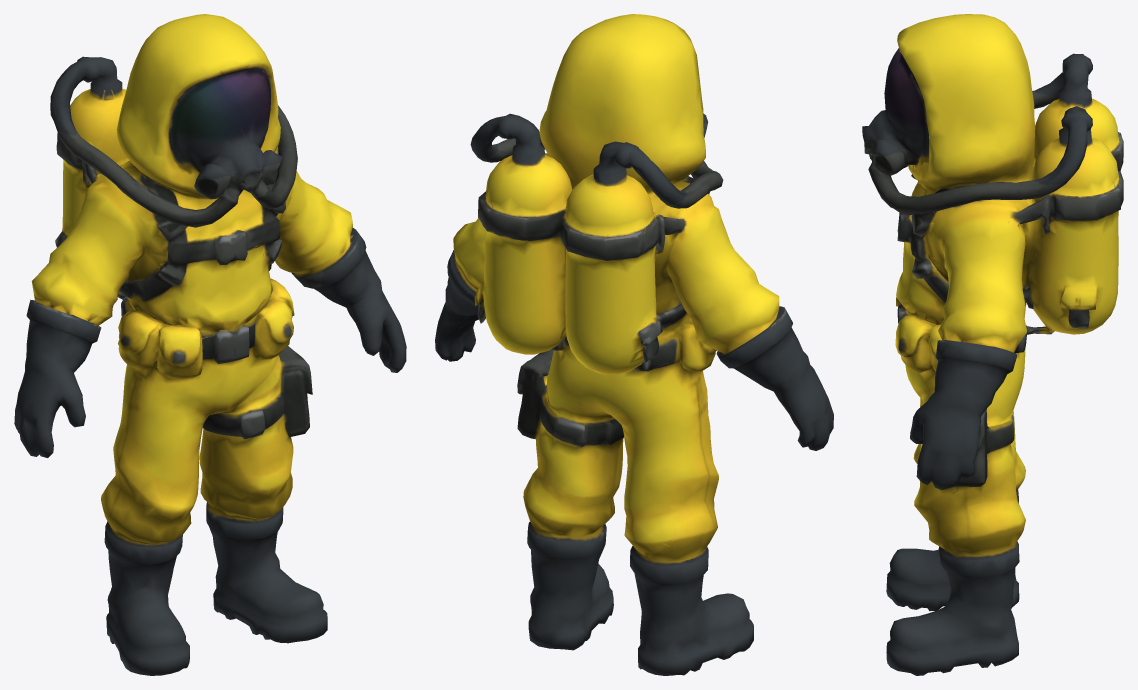
Rendered from hazmat.glb.
3 renders of one model, left to right at view 1: azimuth 30°, elevation 25°; view 2: azimuth 150°, elevation 25°; view 3: azimuth 270°, elevation 25°, orthographic.
Parts seen in each view (by area): view 1: Hazmat; view 2: Hazmat; view 3: Hazmat.
Boxes of the visible parts, x1,y1,x2,y2 form: Hazmat: [14, 14, 406, 675]; Hazmat: [435, 14, 833, 675]; Hazmat: [862, 14, 1123, 675].
Size of the model in its own units: 1.17 by 1.8 by 0.7016.
Materials: 1 (1 with a texture image).
